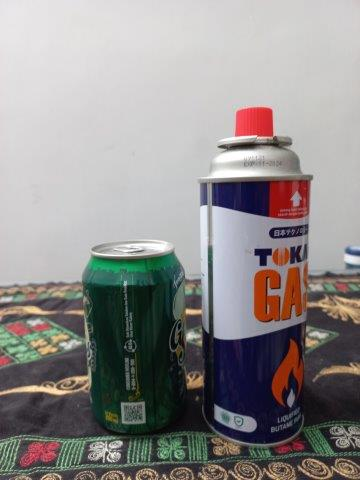kaleng: (198, 110, 314, 449), (82, 239, 187, 436)
